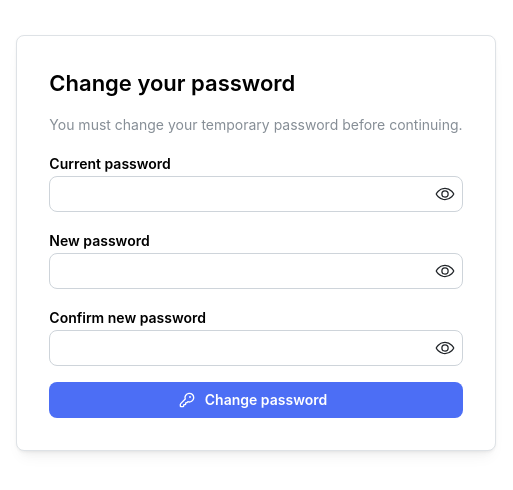
Test: ChangePasswordPage › rejects a short or mismatched new password before submitting
Type "old-password" into the password field labelled "Current password" at (256, 194), box [50, 177, 462, 211]
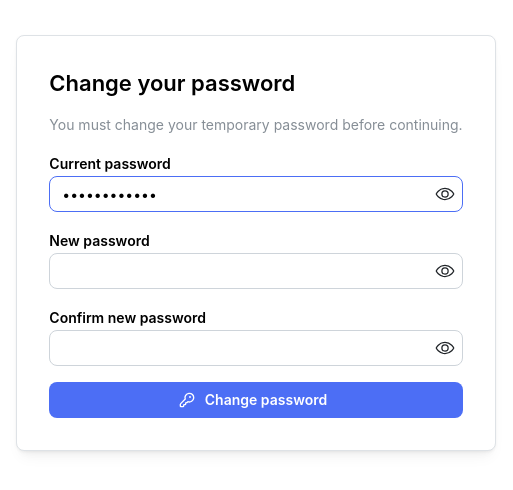
Type "short" into the password field labelled "New password" at (256, 271), box [50, 254, 462, 288]
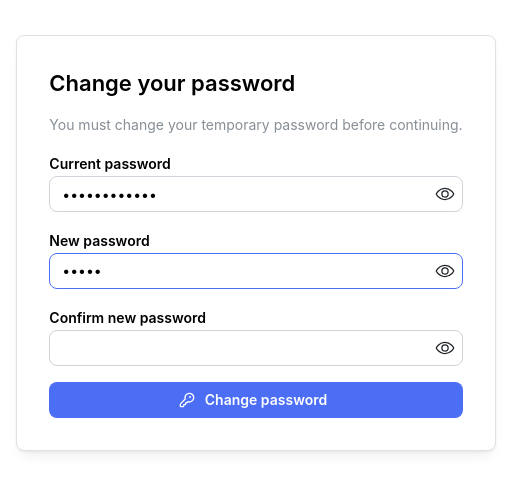
Type "different" into the password field labelled "Confirm new password" at (256, 348), box [50, 331, 462, 365]
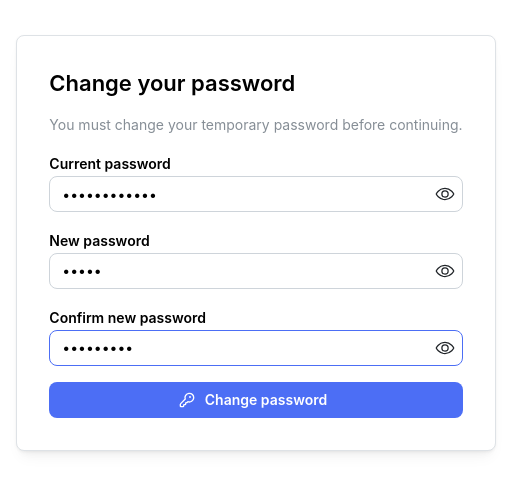
Click the button "Change password" at (256, 400), box [49, 382, 463, 418]
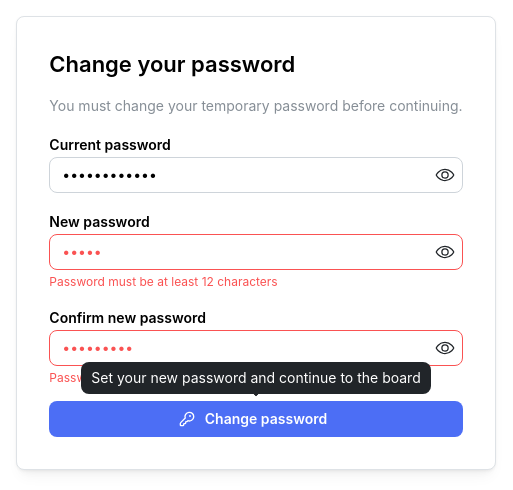
Result: the text "Password must be at least 12 characters" is shown at [49, 274, 278, 288]
